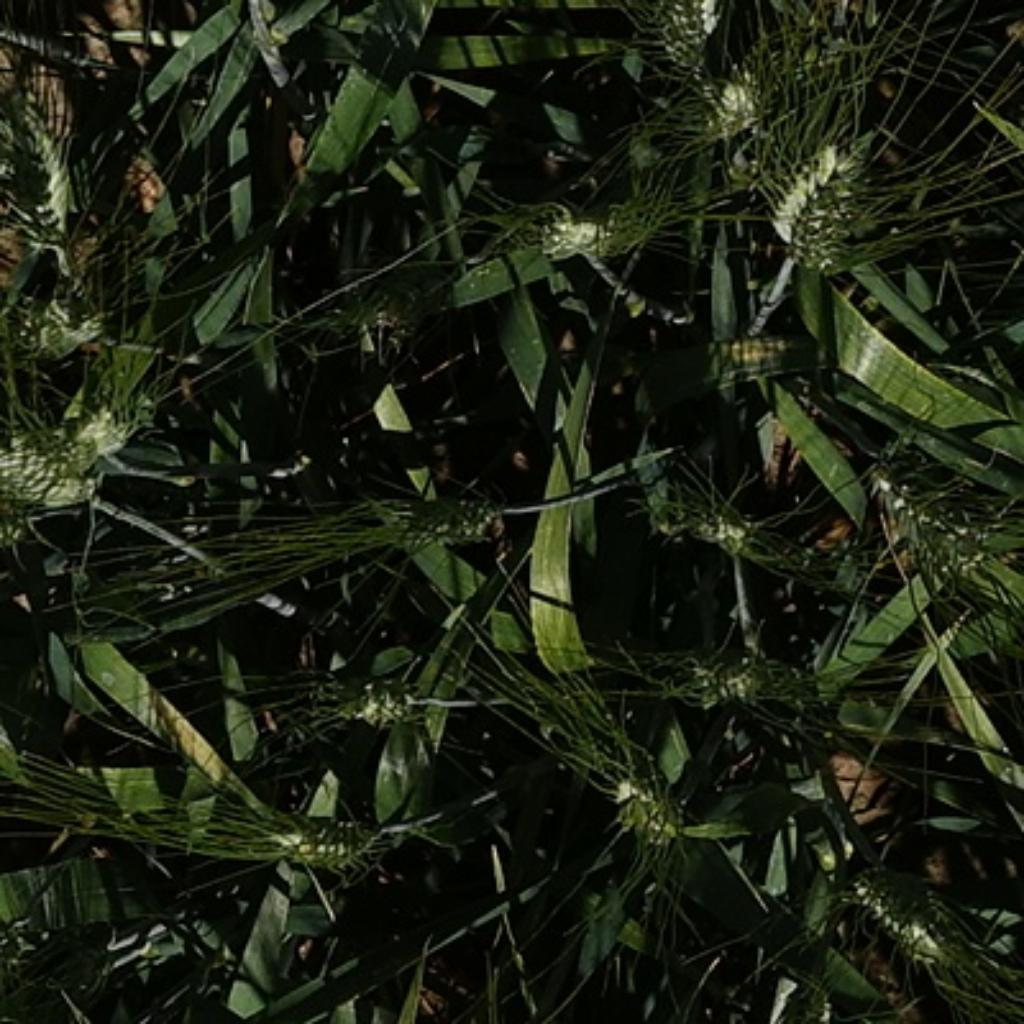0-0: (0, 46, 93, 262), (762, 122, 890, 271), (862, 447, 990, 583), (657, 627, 834, 714), (834, 858, 960, 972), (2, 417, 102, 547), (624, 459, 754, 555), (2, 284, 130, 381), (247, 802, 393, 883), (365, 484, 509, 564), (683, 48, 791, 151), (593, 742, 696, 844), (521, 201, 659, 269), (309, 664, 430, 741), (622, 0, 729, 61)
